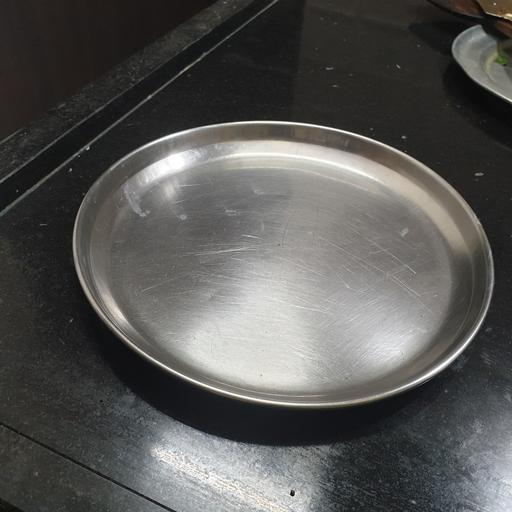plate: (72, 123, 495, 413)
